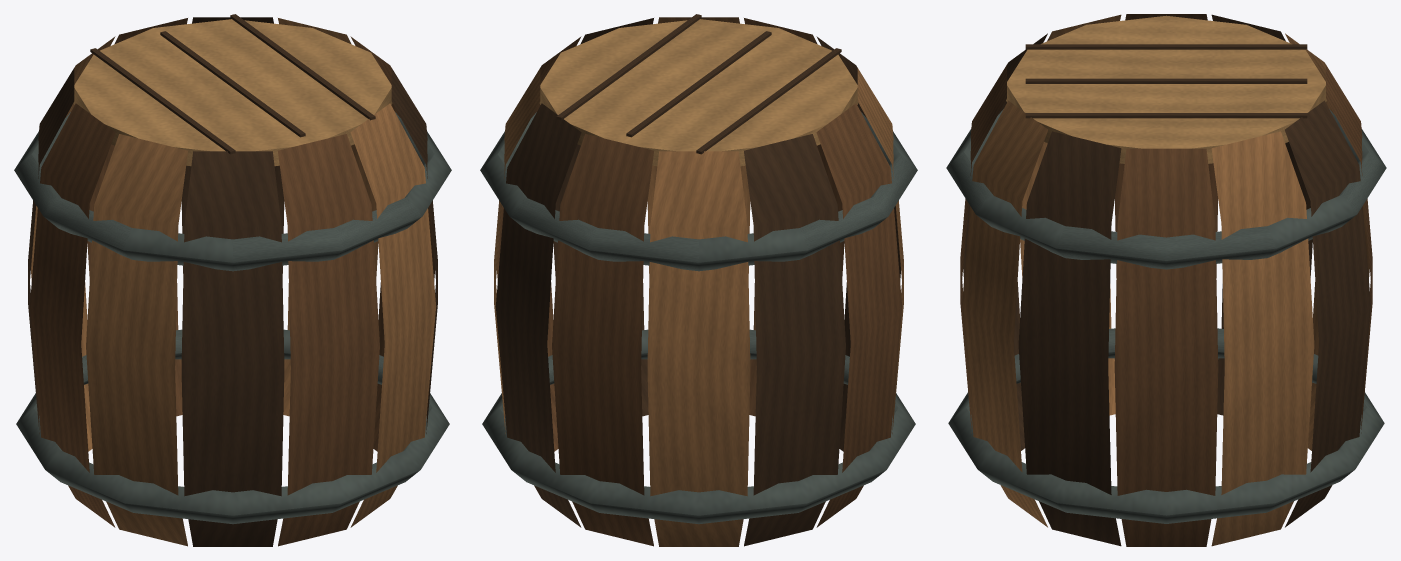
File: barrel-0.fbx
3 views of the same model, side by side, from view 1: azimuth 30°, elevation 25°; view 2: azimuth 150°, elevation 25°; view 3: azimuth 270°, elevation 25° (orthographic).
Parts seen in each view (by area): view 1: barrel-0__Geometry; view 2: barrel-0__Geometry; view 3: barrel-0__Geometry.
Part boxes in pixels (box(x1,y1,x2,y2)): barrel-0__Geometry: box(14, 14, 451, 546); barrel-0__Geometry: box(480, 14, 917, 546); barrel-0__Geometry: box(946, 14, 1386, 546).
Size of the model in its own units: 0.9224 by 0.923 by 0.9224.
